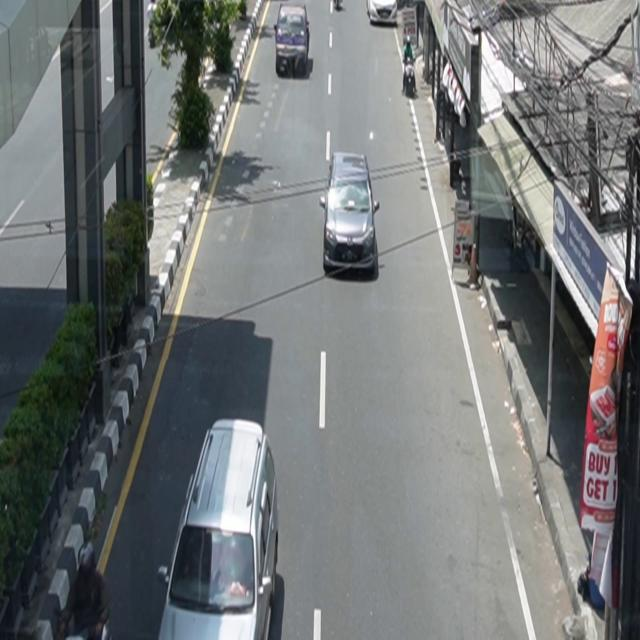car: (158, 419, 280, 640), (320, 152, 381, 277), (275, 3, 311, 78), (367, 1, 398, 26)
